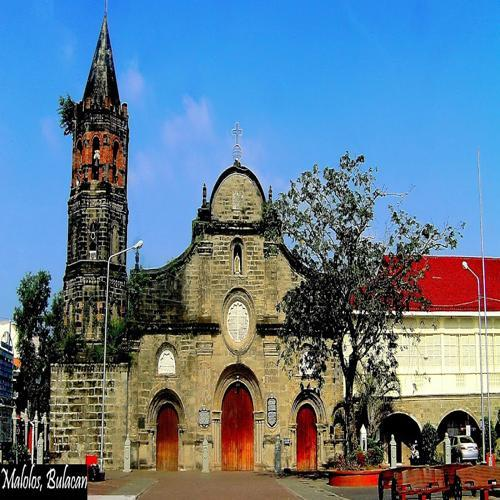Barasoain Church: (51, 4, 347, 477)
